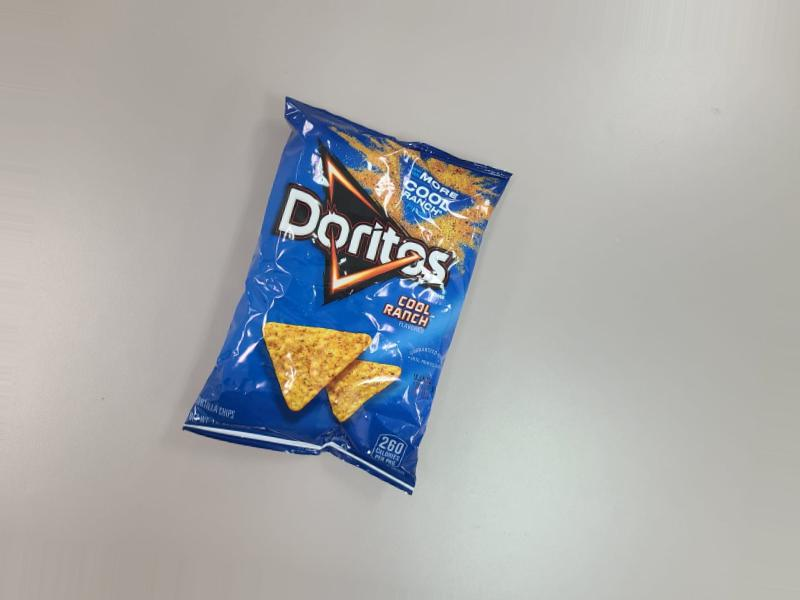doritos: (192, 69, 509, 514)
